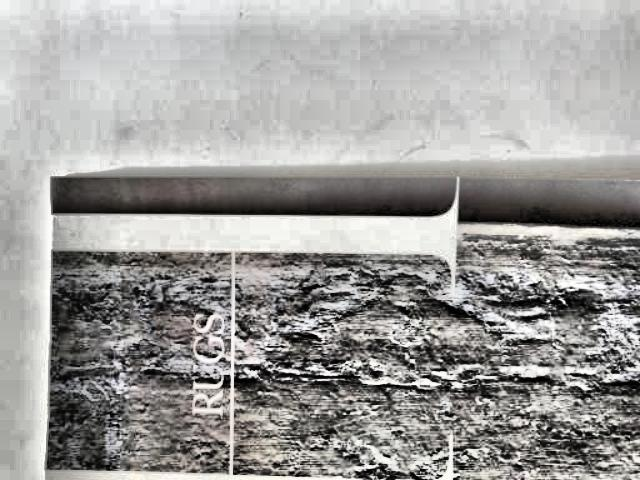Paper: (33, 161, 640, 480)
